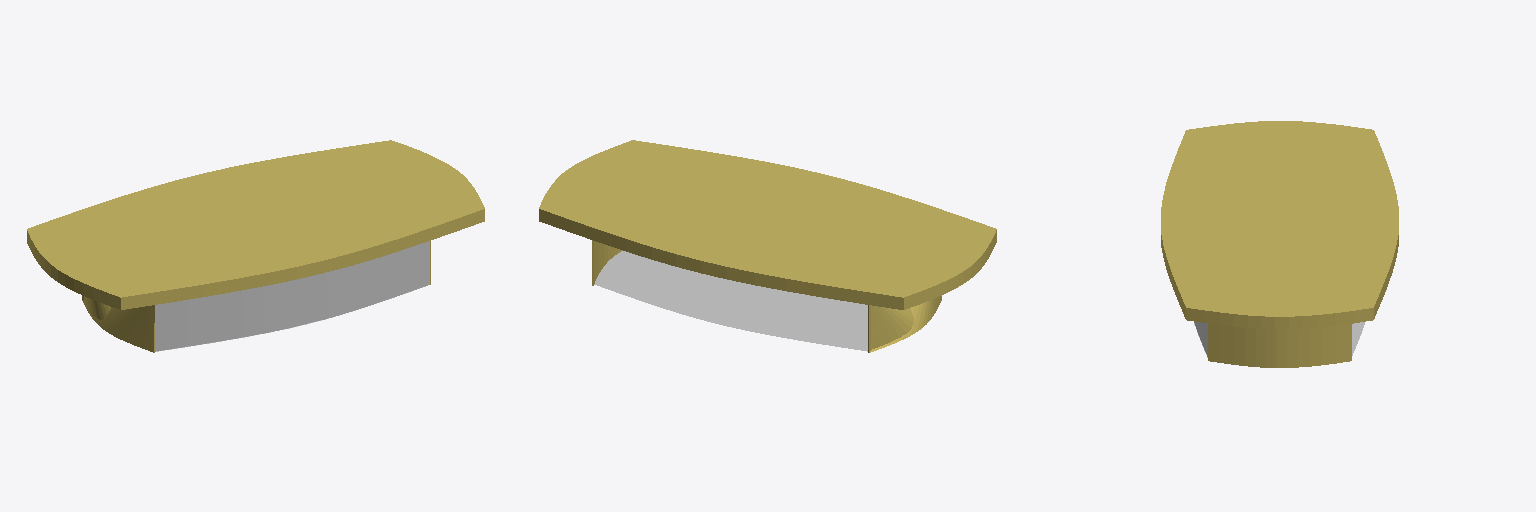
Rendered from structure_v5.obj.
3 views of the same model, side by side, from view 1: azimuth 30°, elevation 25°; view 2: azimuth 150°, elevation 25°; view 3: azimuth 270°, elevation 25° (orthographic).
Visible parts, largest first — view 1: Ground.001, Glass, Esquerda, Cubo.007, Cubo.006; view 2: Ground.001, Ground, Esquerda, Direita; view 3: Ground.001, Direita.
Boxes of the visible parts, <box> form: Ground.001: <box>27,140,484,309</box>; Glass: <box>155,241,429,351</box>; Esquerda: <box>82,295,154,352</box>; Cubo.007: <box>306,272,326,323</box>; Cubo.006: <box>286,278,305,328</box>; Ground.001: <box>539,140,996,309</box>; Ground: <box>594,251,867,351</box>; Esquerda: <box>868,296,941,352</box>; Direita: <box>592,240,622,285</box>; Ground.001: <box>1161,121,1398,328</box>; Direita: <box>1208,324,1351,367</box>.
Bounding box in the file's own units: 63.36 × 11.21 × 32.64.